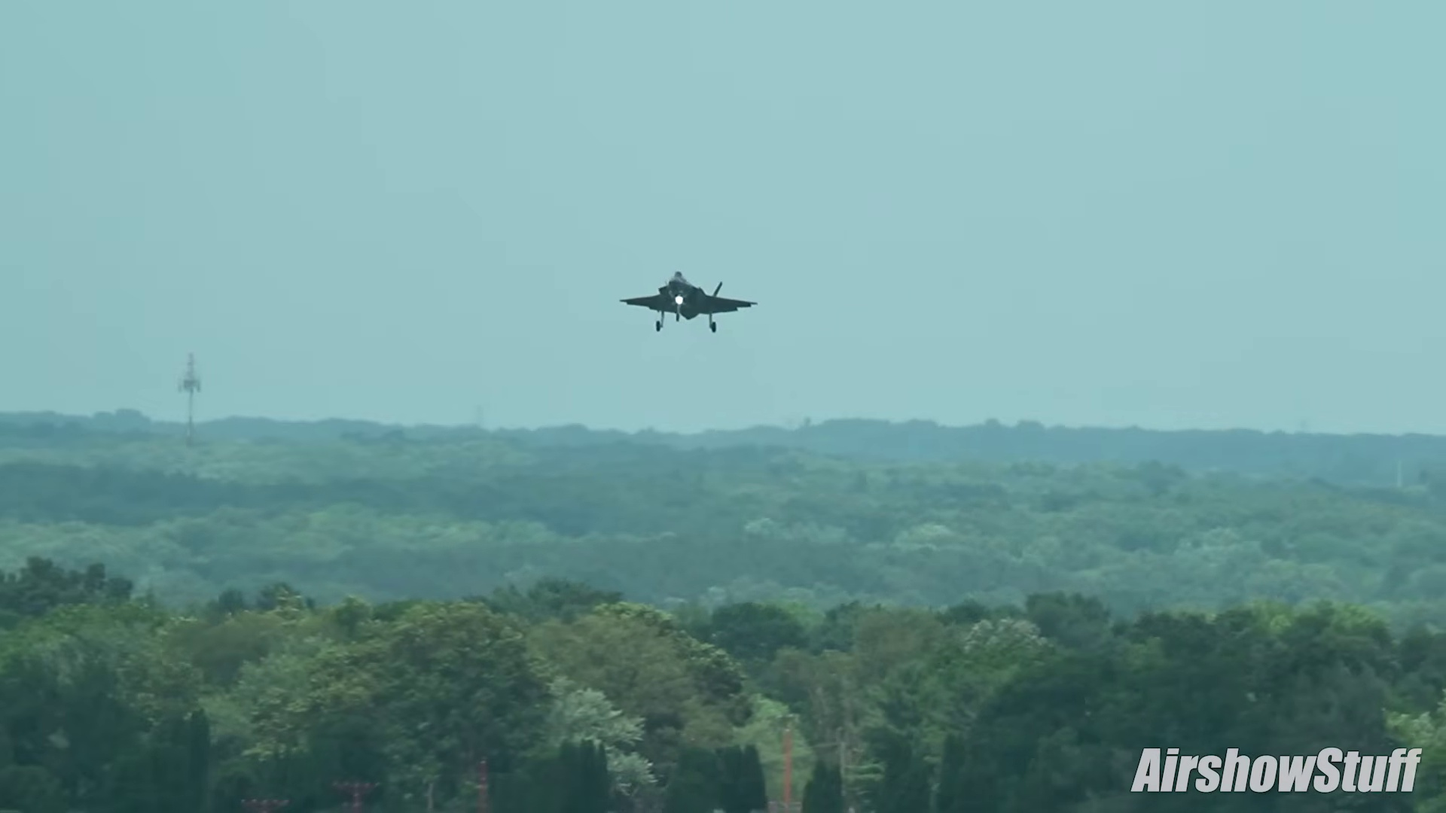F35: (617, 269, 761, 337)
